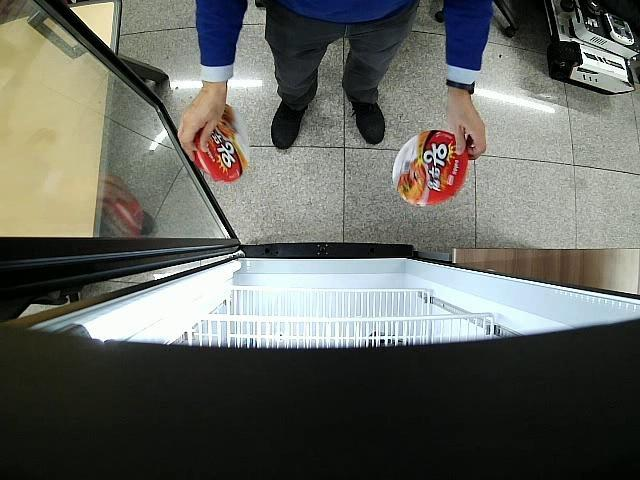10_wangTtukkeong: (392, 130, 468, 206), (194, 102, 250, 184)
